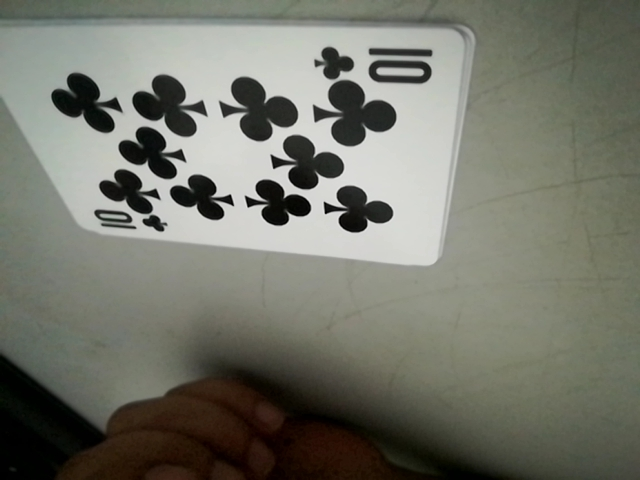mh 10: (313, 39, 444, 84), (86, 208, 170, 238)
